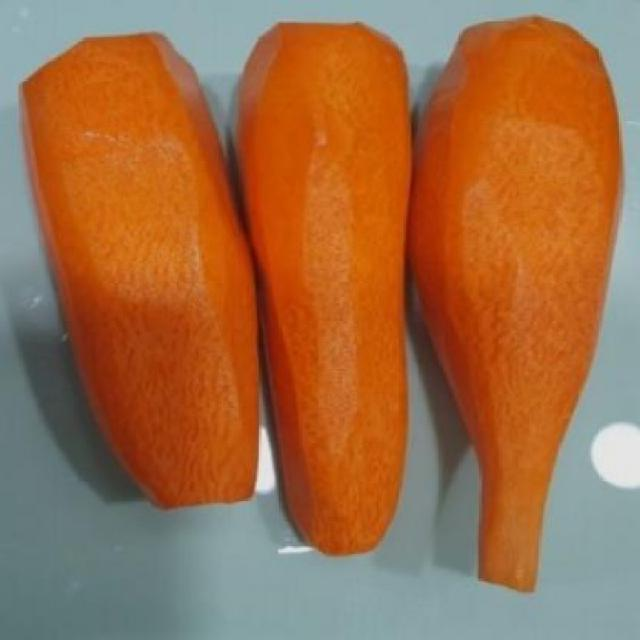Carrot: (409, 18, 622, 591), (22, 34, 259, 508), (239, 24, 411, 554)
